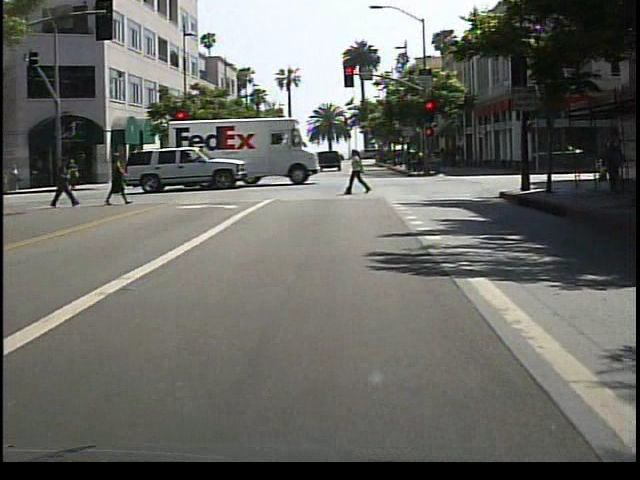person: (596, 135, 626, 199), (105, 149, 130, 210), (348, 147, 374, 197), (54, 156, 78, 209)
